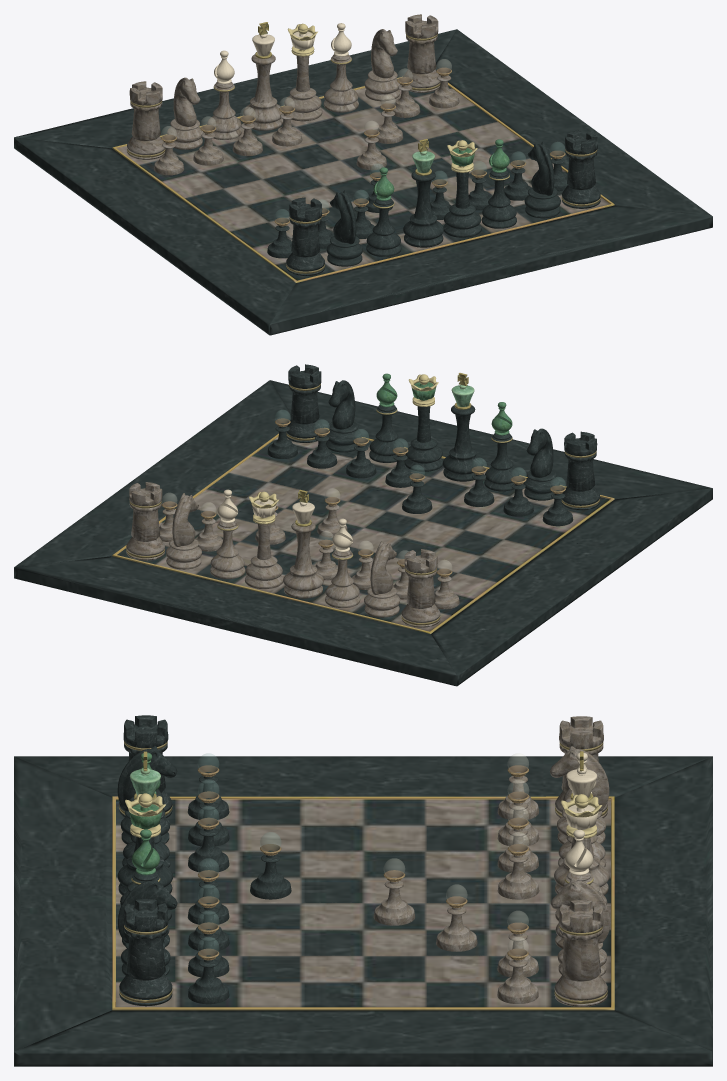
Rendered from chess.gltf.
3 renders of one model, top to bottom at view 1: azimuth 30°, elevation 25°; view 2: azimuth 150°, elevation 25°; view 3: azimuth 270°, elevation 25°, orthographic. The views are drawn at different scales.
Visible parts, largest first — view 1: Chessboard, Pawn_Body_Shared (×13), Castle_B2, Castle_B1, Castle_W2, King_B, Castle_W1, Queen_B, King_W, Queen_W, Knight_W1, Knight_B1 (+6 smaller); view 2: Chessboard, Pawn_Body_Shared (×13), Castle_W2, Castle_W1, Castle_B1, King_W, Castle_B2, King_B, Queen_W, Queen_B, Knight_W2, Knight_W1 (+6 smaller); view 3: Chessboard, Pawn_Body_Shared (×16), Castle_B2, Castle_W1, Castle_B1, Knight_B1, Castle_W2, Knight_W2, King_W, King_B, Queen_B, Queen_W (+6 smaller).
Boxes of the visible parts, left/top/right/bottom form: Chessboard: left=14, top=29, right=712, bottom=335; Pawn_Body_Shared (×13): left=154, top=67, right=531, bottom=258; Castle_B2: left=562, top=130, right=600, bottom=208; Castle_B1: left=286, top=197, right=324, bottom=275; Castle_W2: left=127, top=81, right=165, bottom=159; King_B: left=403, top=139, right=443, bottom=247; Castle_W1: left=403, top=14, right=440, bottom=92; Queen_B: left=443, top=140, right=481, bottom=237; King_W: left=243, top=22, right=283, bottom=130; Queen_W: left=284, top=23, right=322, bottom=121; Knight_W1: left=364, top=29, right=400, bottom=101; Knight_B1: left=326, top=190, right=362, bottom=266; Chessboard: left=14, top=380, right=712, bottom=686; Pawn_Body_Shared (×13): left=195, top=418, right=573, bottom=609; Castle_W2: left=401, top=549, right=440, bottom=627; Castle_W1: left=126, top=482, right=164, bottom=560; Castle_B1: left=561, top=431, right=599, bottom=510; King_W: left=283, top=489, right=323, bottom=598; Castle_B2: left=286, top=364, right=323, bottom=442; King_B: left=442, top=373, right=483, bottom=481; Queen_W: left=244, top=491, right=283, bottom=588; Queen_B: left=404, top=374, right=442, bottom=471; Knight_W2: left=364, top=541, right=400, bottom=617; Knight_W1: left=166, top=493, right=201, bottom=569; Chessboard: left=14, top=756, right=712, bottom=1066; Pawn_Body_Shared (×16): left=187, top=765, right=539, bottom=1004; Castle_B2: left=119, top=899, right=172, bottom=1006; Castle_W1: left=554, top=900, right=607, bottom=1006; Castle_B1: left=119, top=715, right=172, bottom=817; Knight_B1: left=117, top=746, right=177, bottom=844; Castle_W2: left=555, top=716, right=607, bottom=818; Knight_W2: left=550, top=746, right=609, bottom=844; King_W: left=554, top=751, right=609, bottom=895; King_B: left=117, top=751, right=173, bottom=895; Queen_B: left=120, top=793, right=171, bottom=920; Queen_W: left=555, top=794, right=607, bottom=921.
Size of the model in its own units: 0.7054 by 0.169 by 0.7054.
15 materials, 13 textured.
